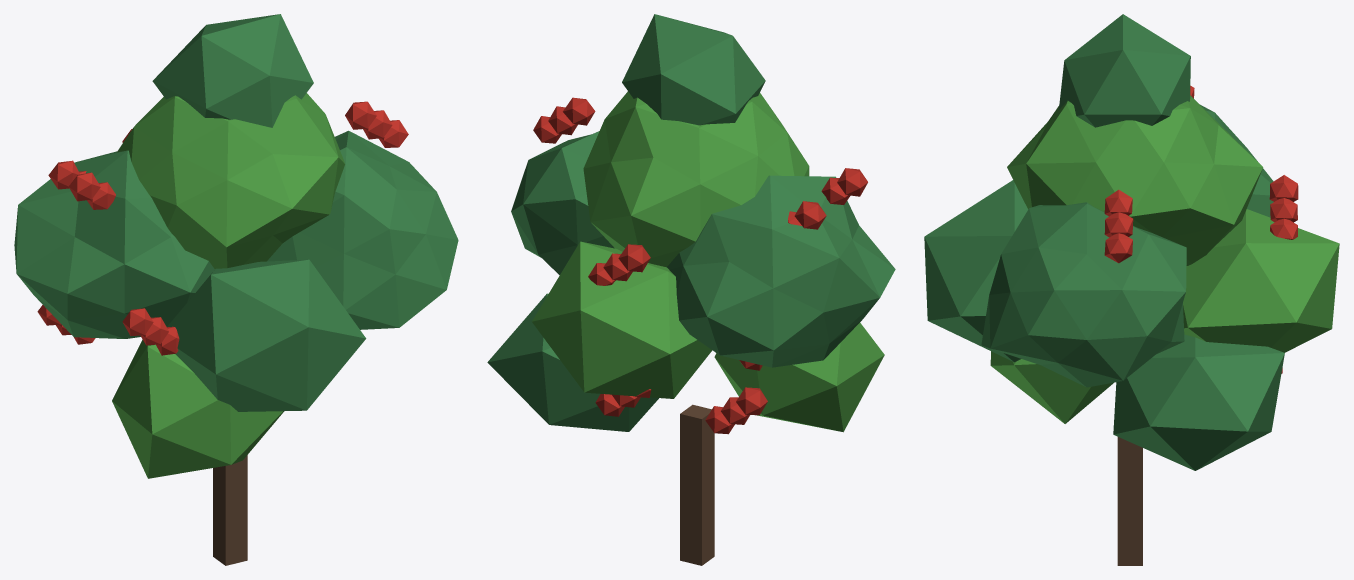
Rendered from viet_coffee_shrub.glb.
3 views of the same model, side by side, from view 1: azimuth 30°, elevation 25°; view 2: azimuth 150°, elevation 25°; view 3: azimuth 270°, elevation 25° (orthographic).
Parts seen in each view (by area): view 1: viet_coffee_shrub; view 2: viet_coffee_shrub; view 3: viet_coffee_shrub.
Boxes of the visible parts, x1,y1,x2,y2 form: viet_coffee_shrub: [14, 14, 458, 565]; viet_coffee_shrub: [487, 14, 895, 565]; viet_coffee_shrub: [924, 14, 1339, 565].
Bounding box in the file's own units: 0.7548 × 1 × 0.7056.
